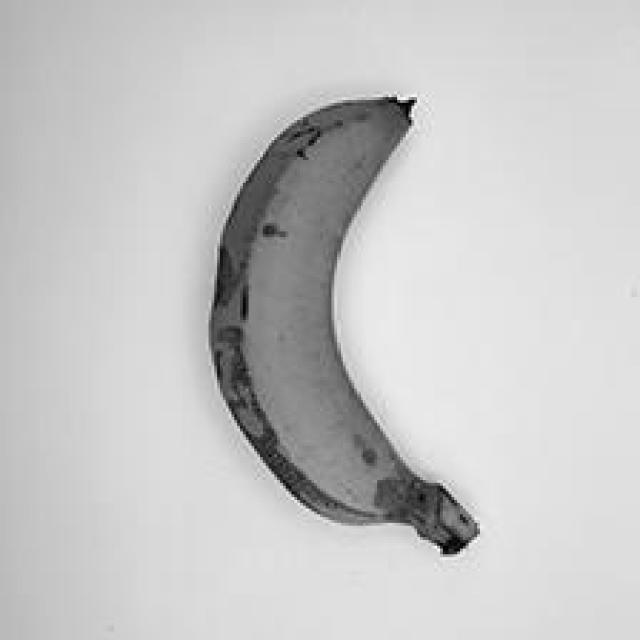Raw: (176, 68, 509, 593)
